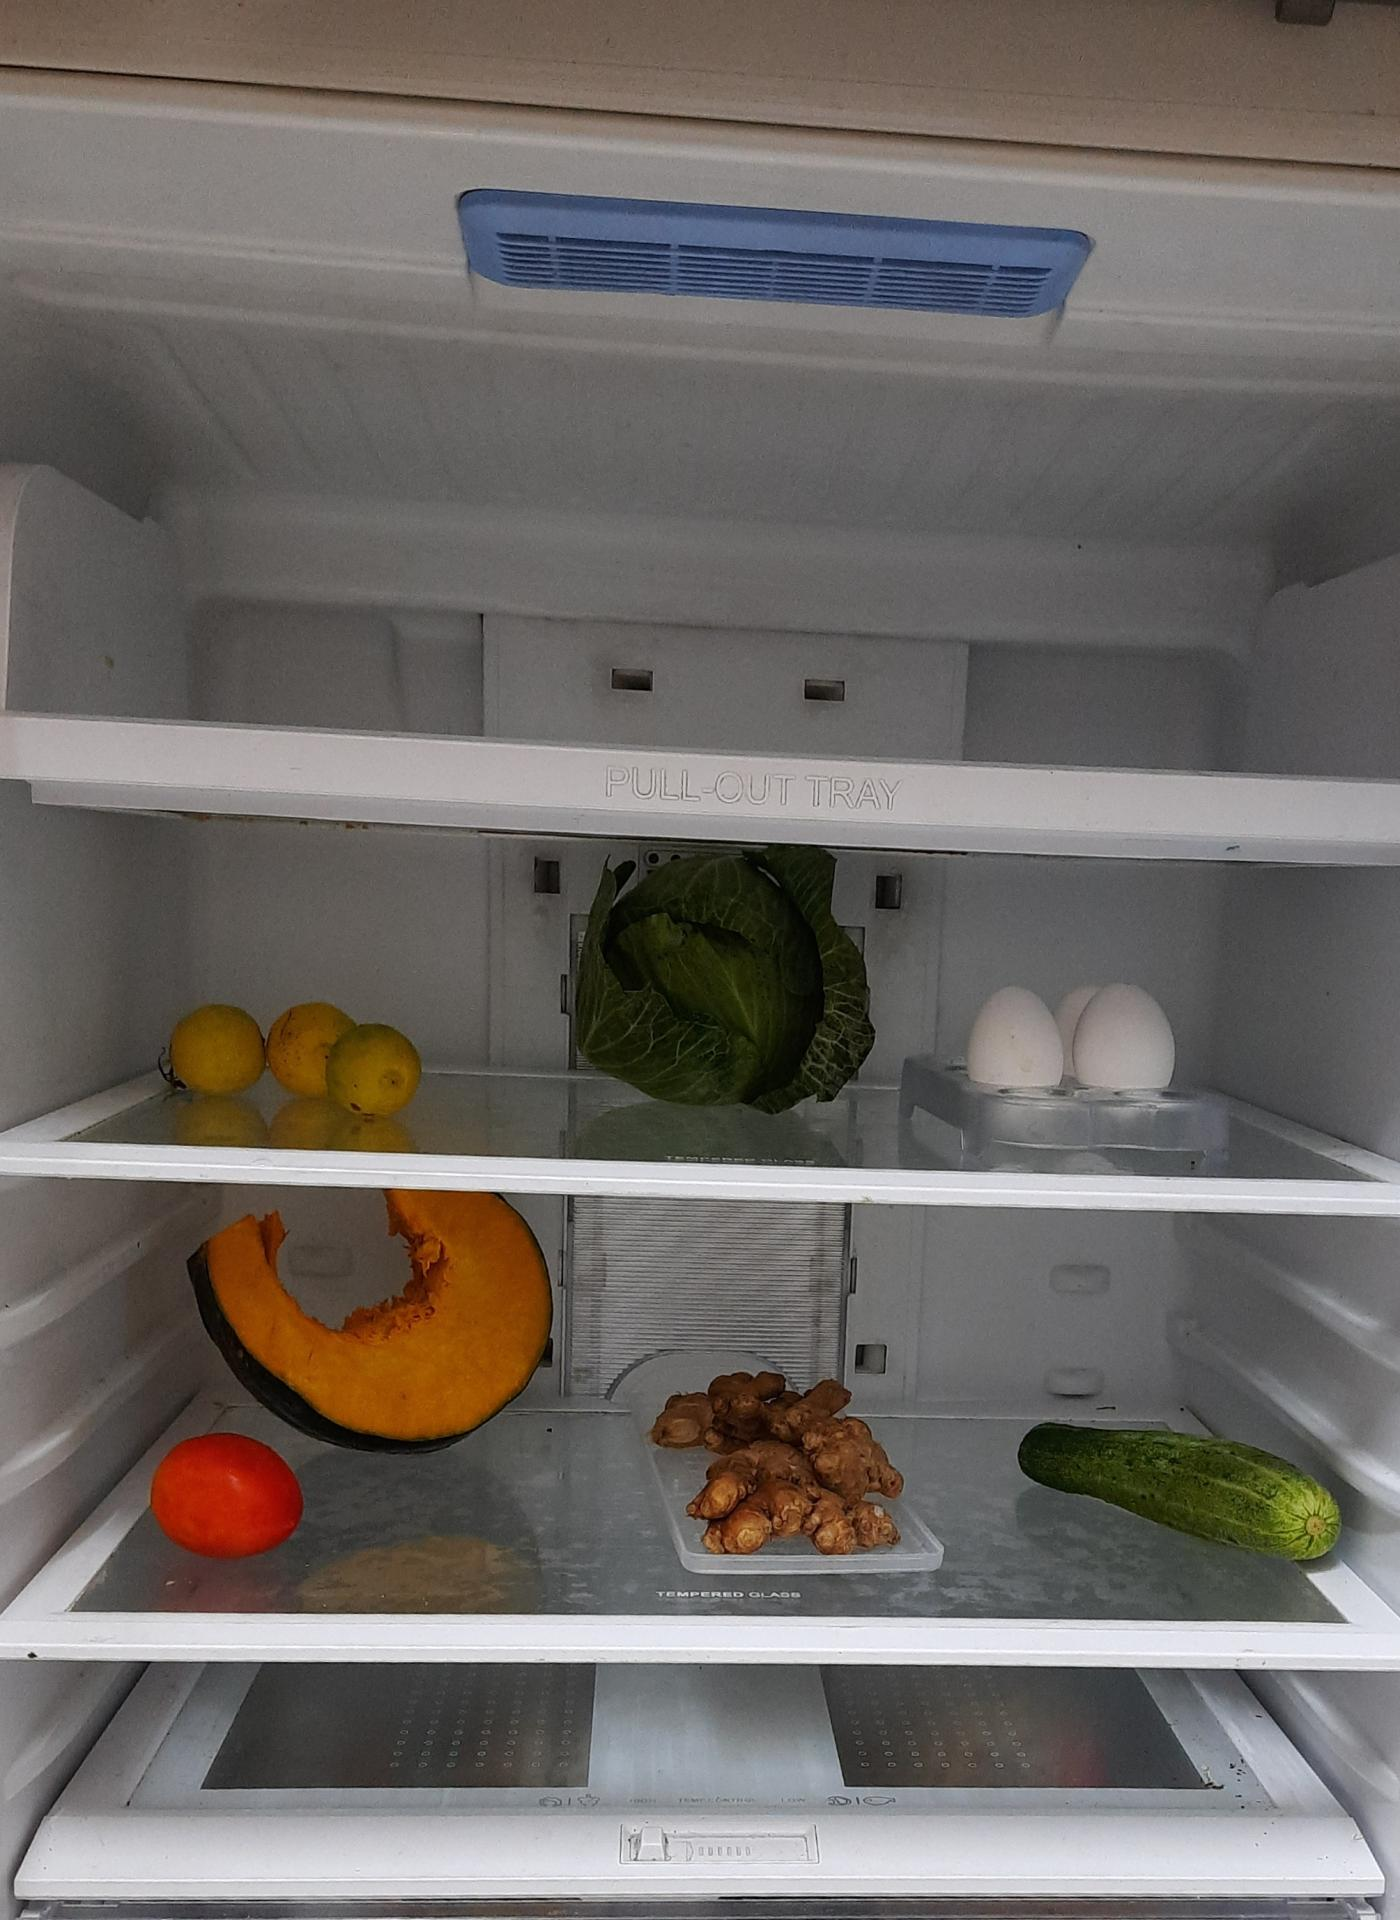cabbage: (578, 856, 880, 1120)
cucumber: (1005, 1424, 1342, 1556)
egg: (966, 984, 1181, 1106)
ginger: (650, 1371, 908, 1556)
lemon: (158, 988, 425, 1118)
pumpkin: (197, 1185, 564, 1444)
tomato: (149, 1431, 306, 1556)
